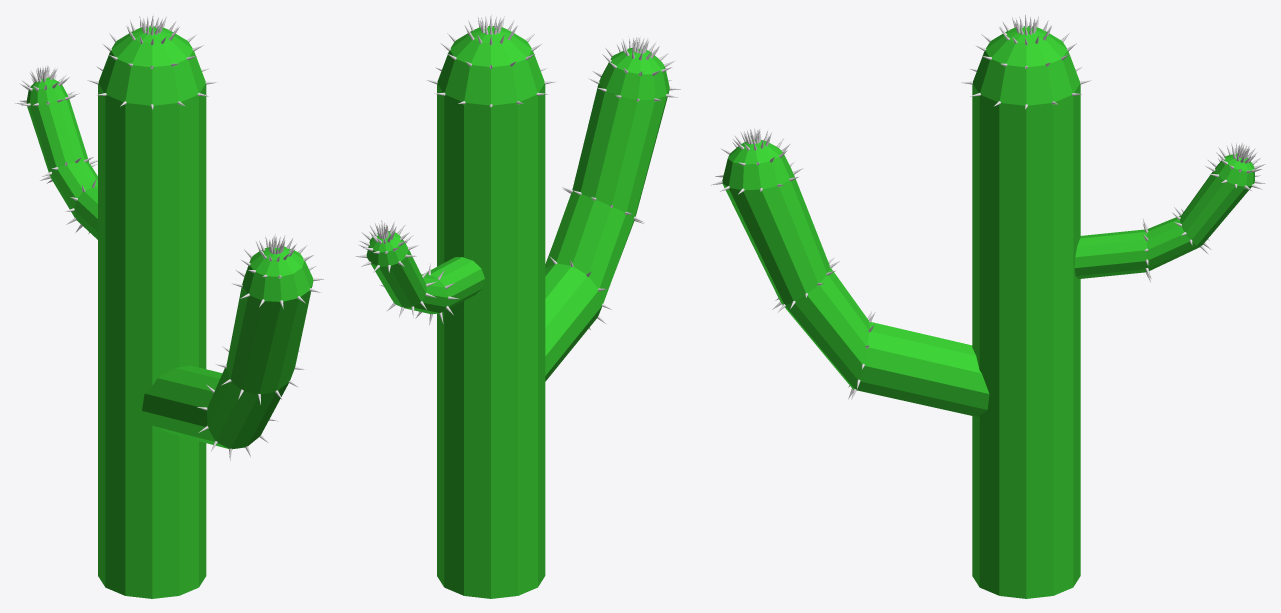
The model's file is kaktus1.fbx.
3 views of the same model, side by side, from view 1: azimuth 30°, elevation 25°; view 2: azimuth 150°, elevation 25°; view 3: azimuth 270°, elevation 25° (orthographic).
Visible parts, largest first — view 1: Cylinder; view 2: Cylinder; view 3: Cylinder.
Part boxes in pixels (left/top/right/bottom): Cylinder: left=26, top=26, right=313, bottom=598; Cylinder: left=366, top=26, right=669, bottom=598; Cylinder: left=722, top=26, right=1254, bottom=598.
Bounding box in the file's own units: 244 × 1136 × 1030.
